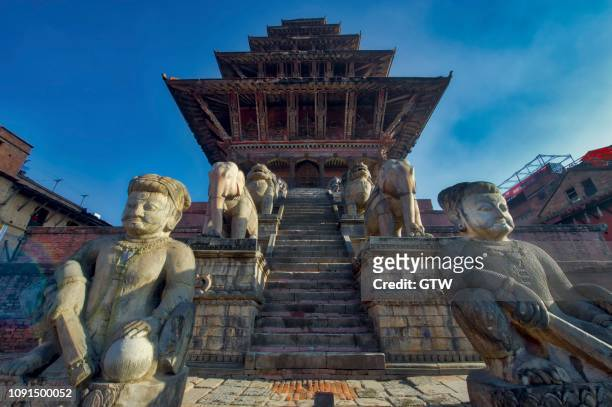nyathapola: (152, 4, 519, 244)
